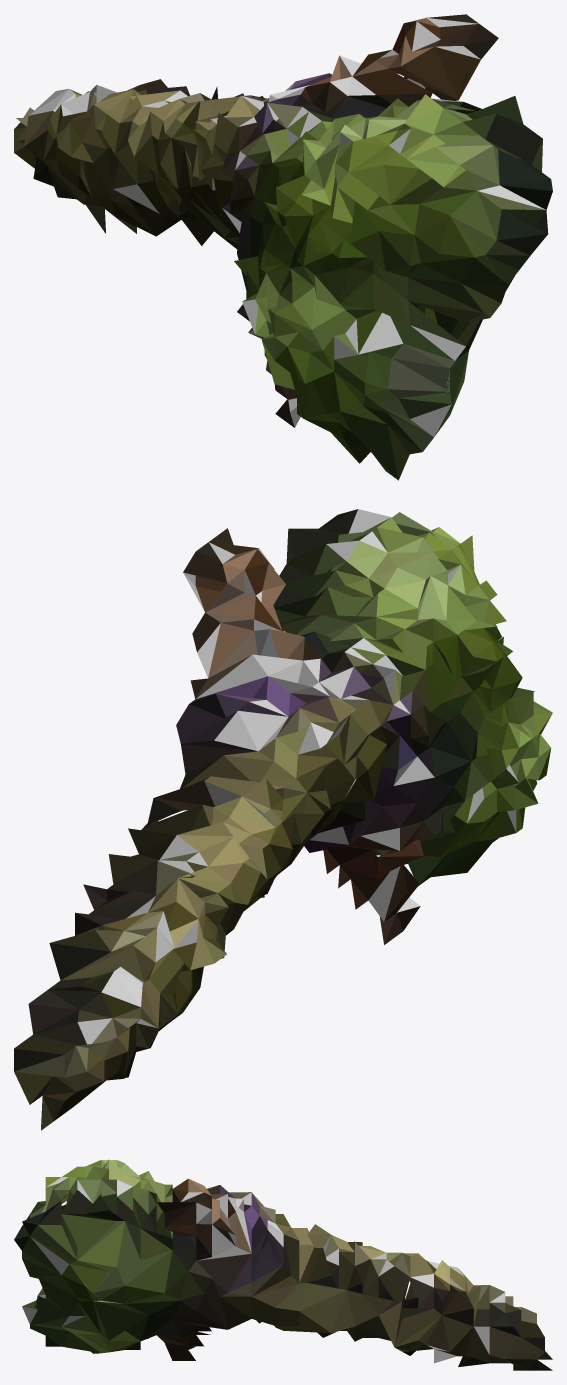
Rendered from B12_6_goblin_knotclub.obj.
3 views of the same model, one above another, from view 1: azimuth 30°, elevation 25°; view 2: azimuth 150°, elevation 25°; view 3: azimuth 270°, elevation 25° (orthographic). The views are drawn at different scales.
Visible parts, largest first — view 1: B12_6_goblin_knotclub; view 2: B12_6_goblin_knotclub; view 3: B12_6_goblin_knotclub.
Part boxes in pixels (<box>): B12_6_goblin_knotclub: <box>14,14,552,480</box>; B12_6_goblin_knotclub: <box>14,509,552,1130</box>; B12_6_goblin_knotclub: <box>14,1159,552,1370</box>.
Bounding box in the file's own units: 24 × 31 × 68.
